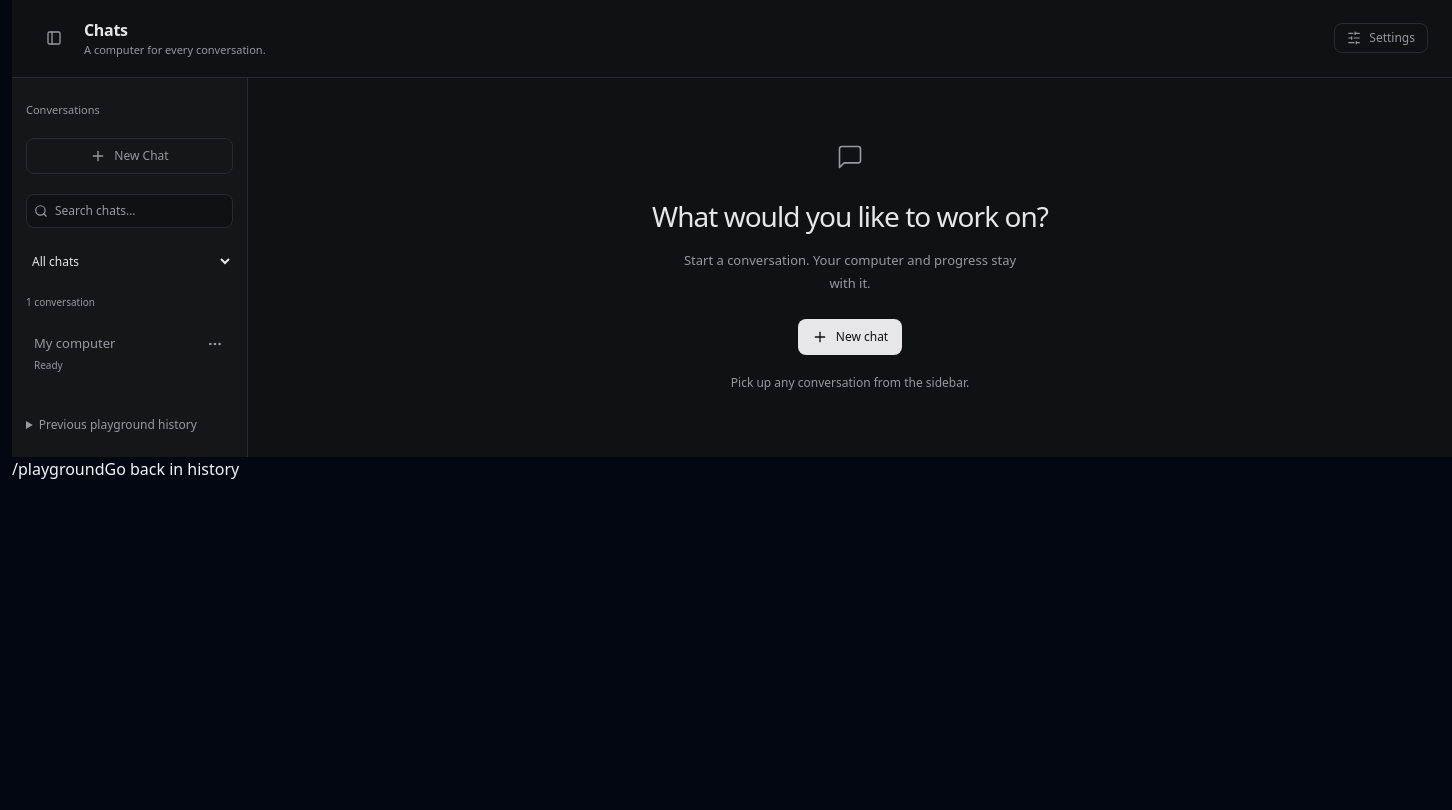
Test case: durable chat workspace integration › supports keyboard tabs and returns focus when computer details are dismissed
Click the text "My computer" at (75, 344), box x1=34 y1=334 x2=116 y2=354
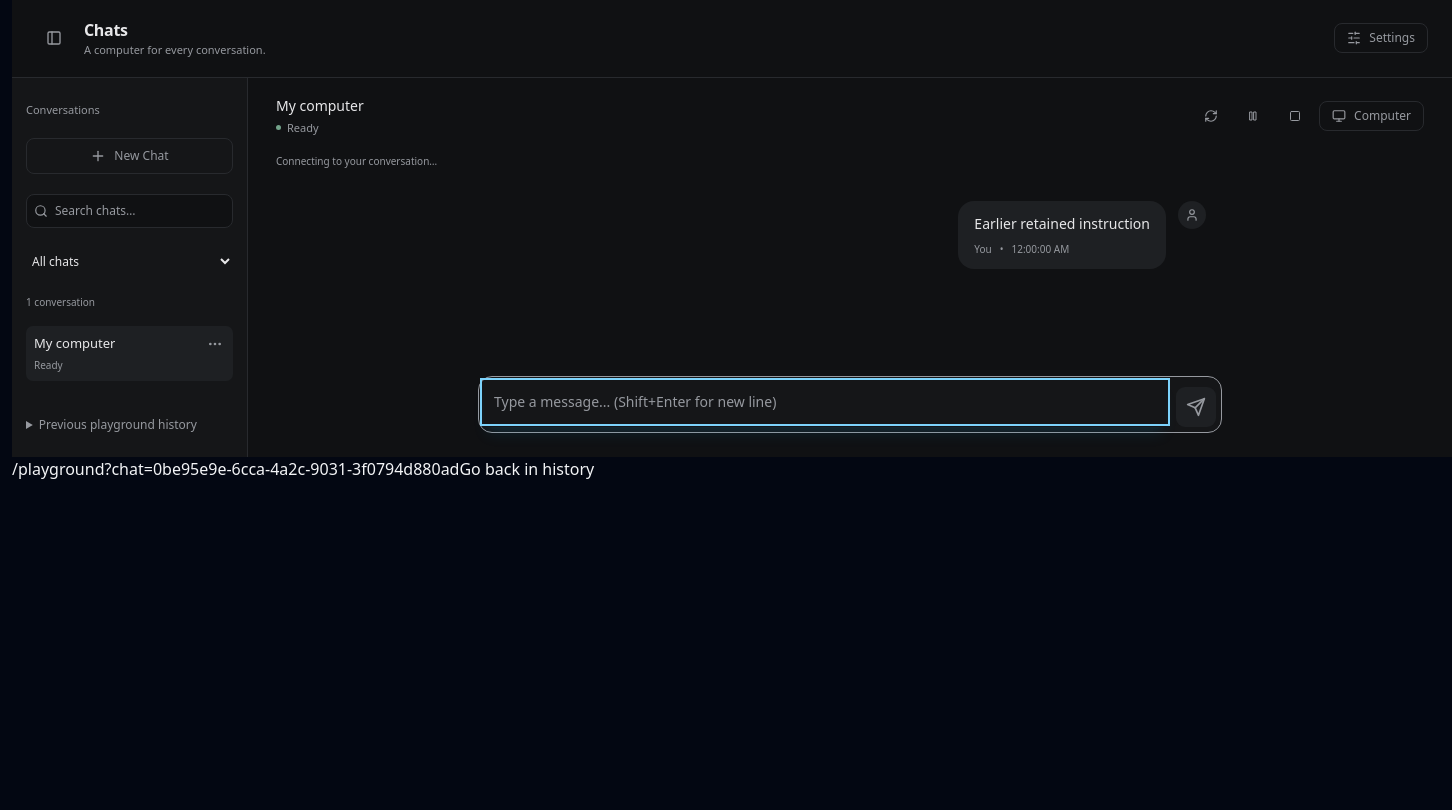
Click the button with aria-label "Show computer details" at (1372, 116), box x1=1319 y1=101 x2=1424 y2=131
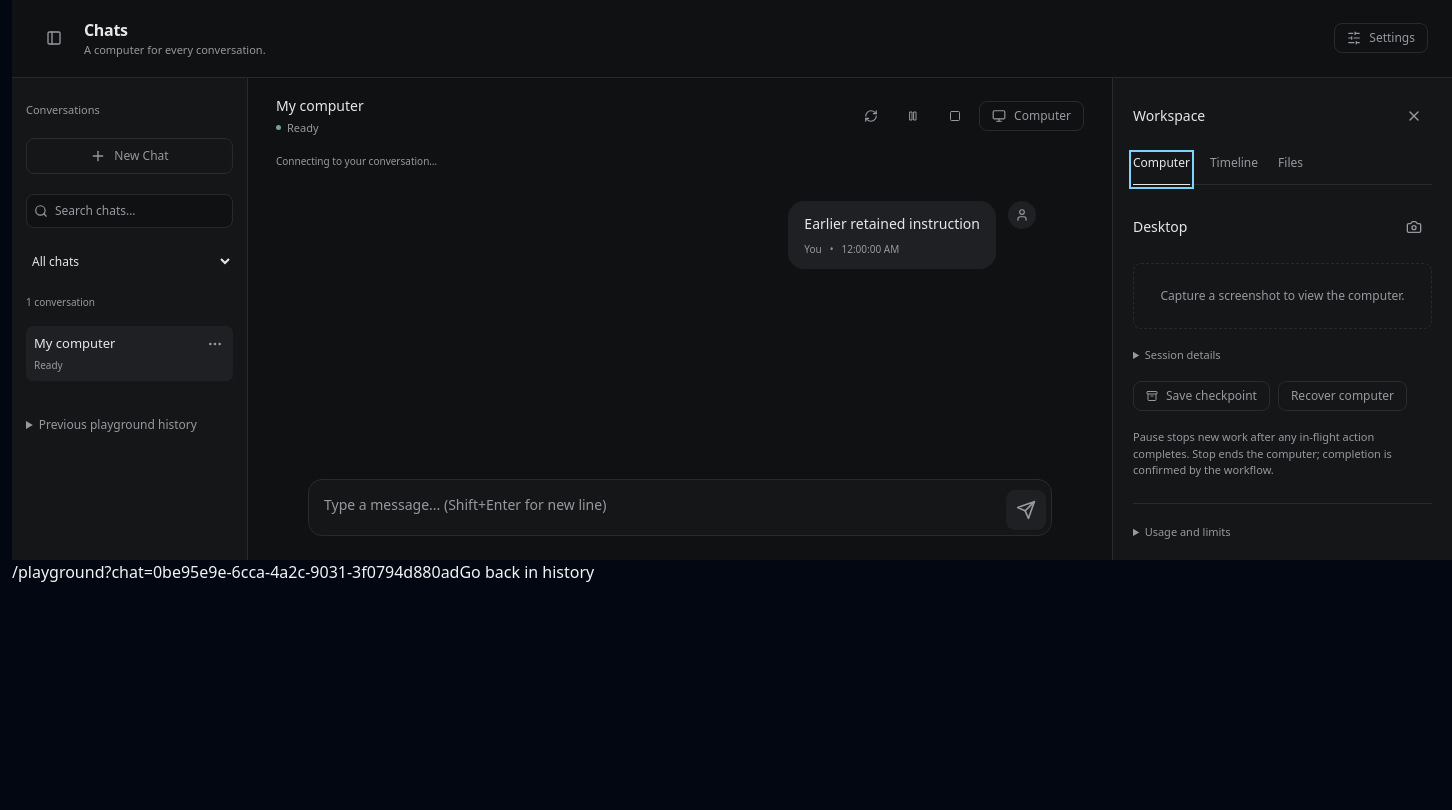
Press ArrowRight in the tab "Computer", box x1=1133 y1=154 x2=1190 y2=184
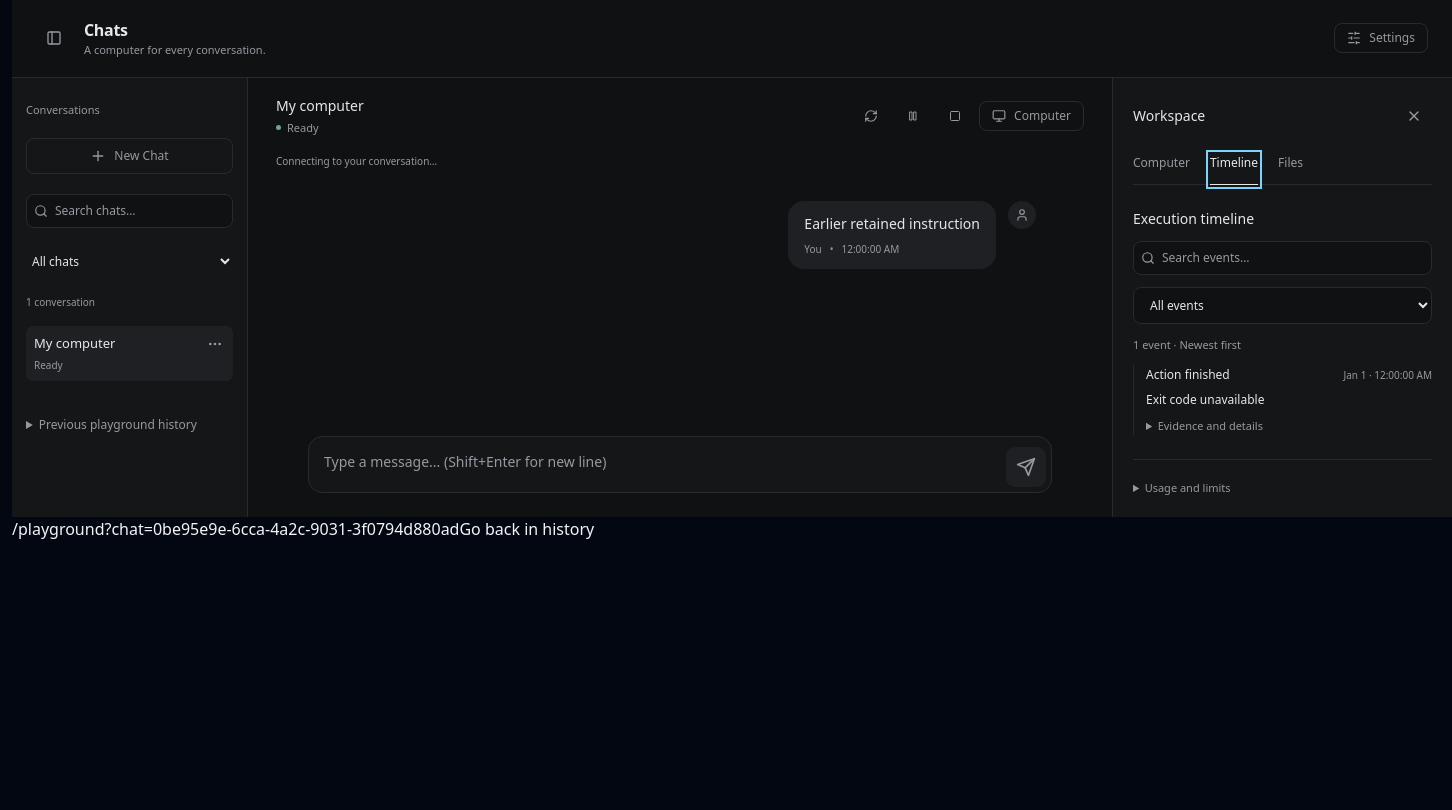
Expected: the panel "timeline" is shown, x1=1133 y1=208 x2=1432 y2=435
Press End in the tab "Timeline", box x1=1210 y1=154 x2=1258 y2=184
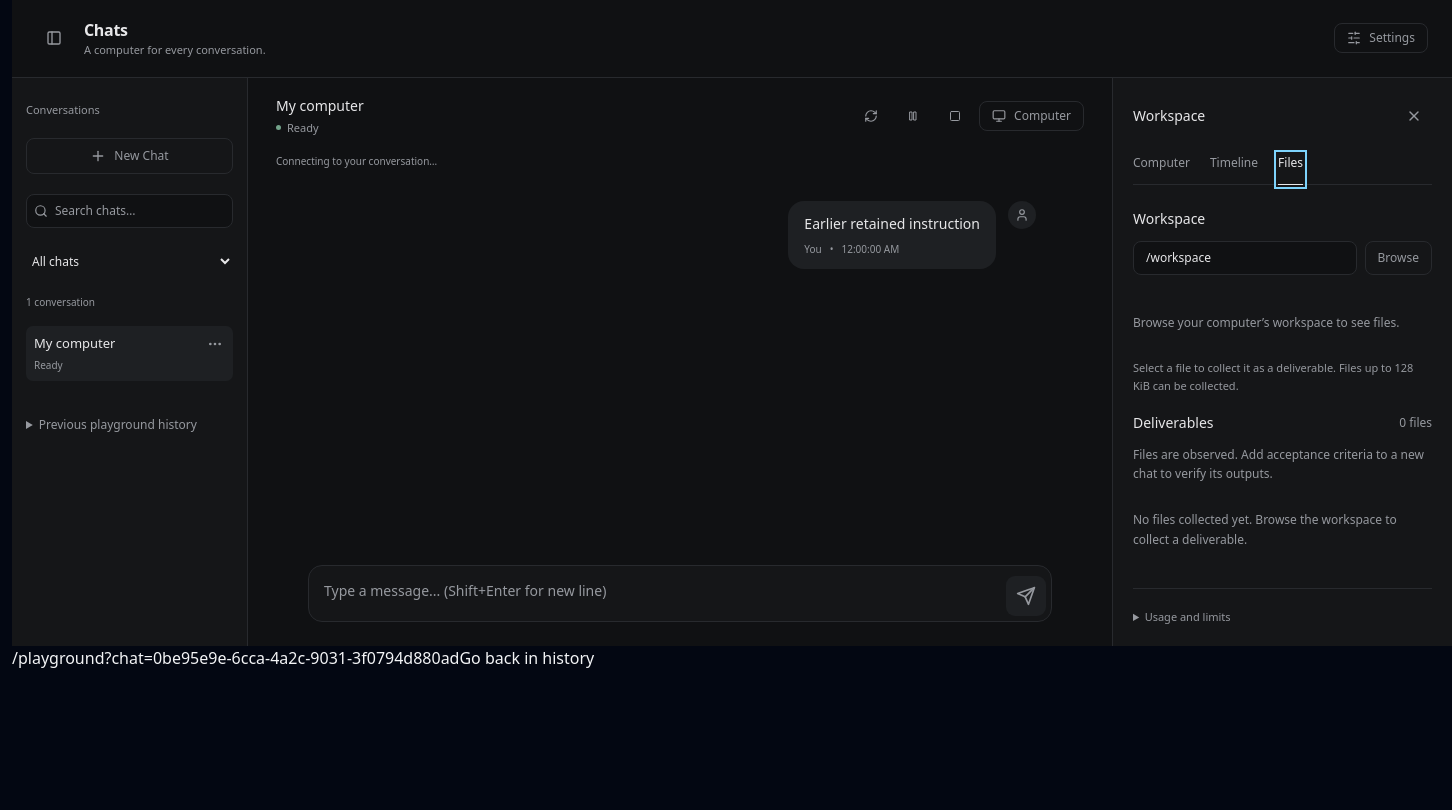
Press Escape in the tab "Files", box x1=1278 y1=154 x2=1303 y2=184
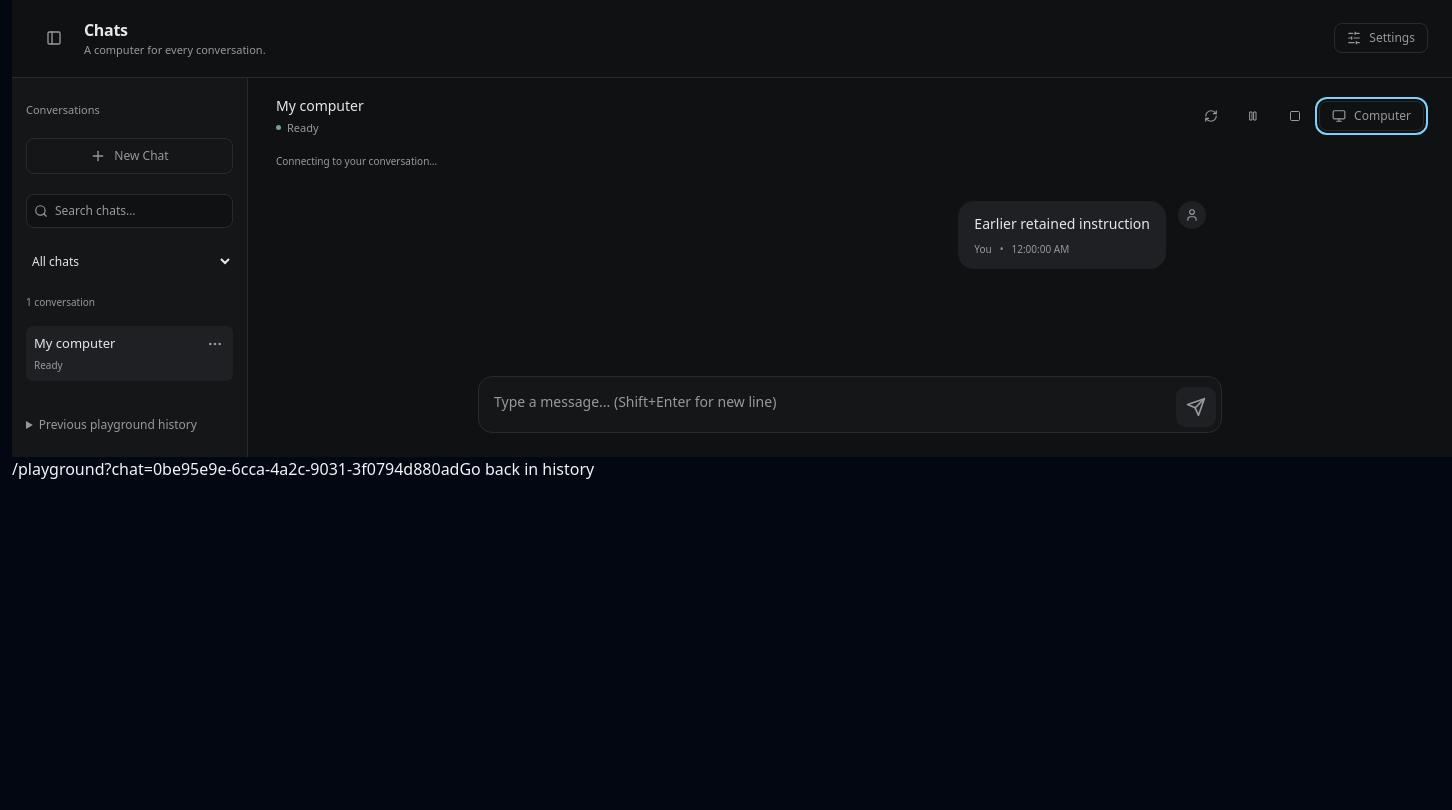
Expected: the button with aria-label "Show computer details" is collapsed, x1=1319 y1=101 x2=1424 y2=131
